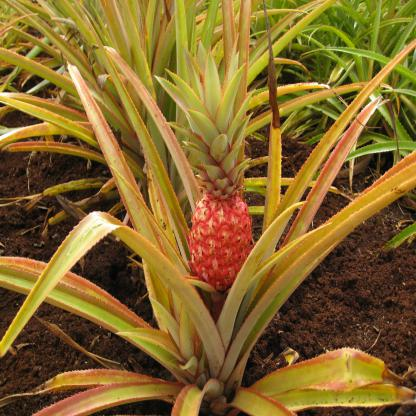Pineapple: (154, 40, 257, 291)
